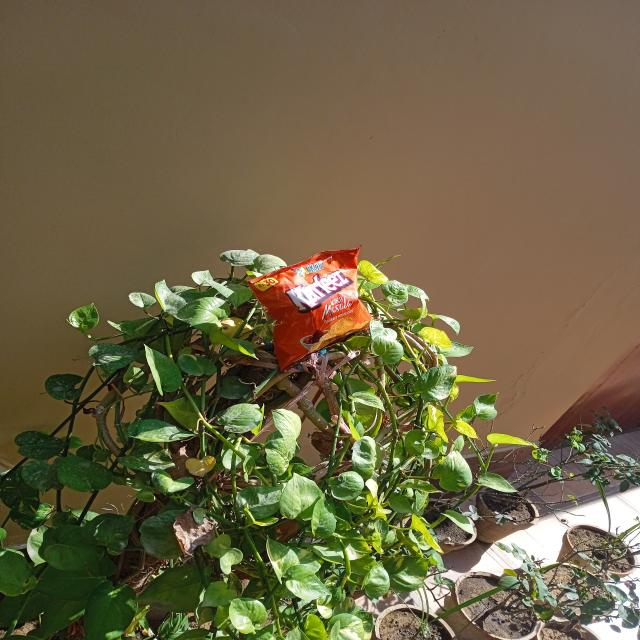Plastic: (255, 246, 372, 366)
